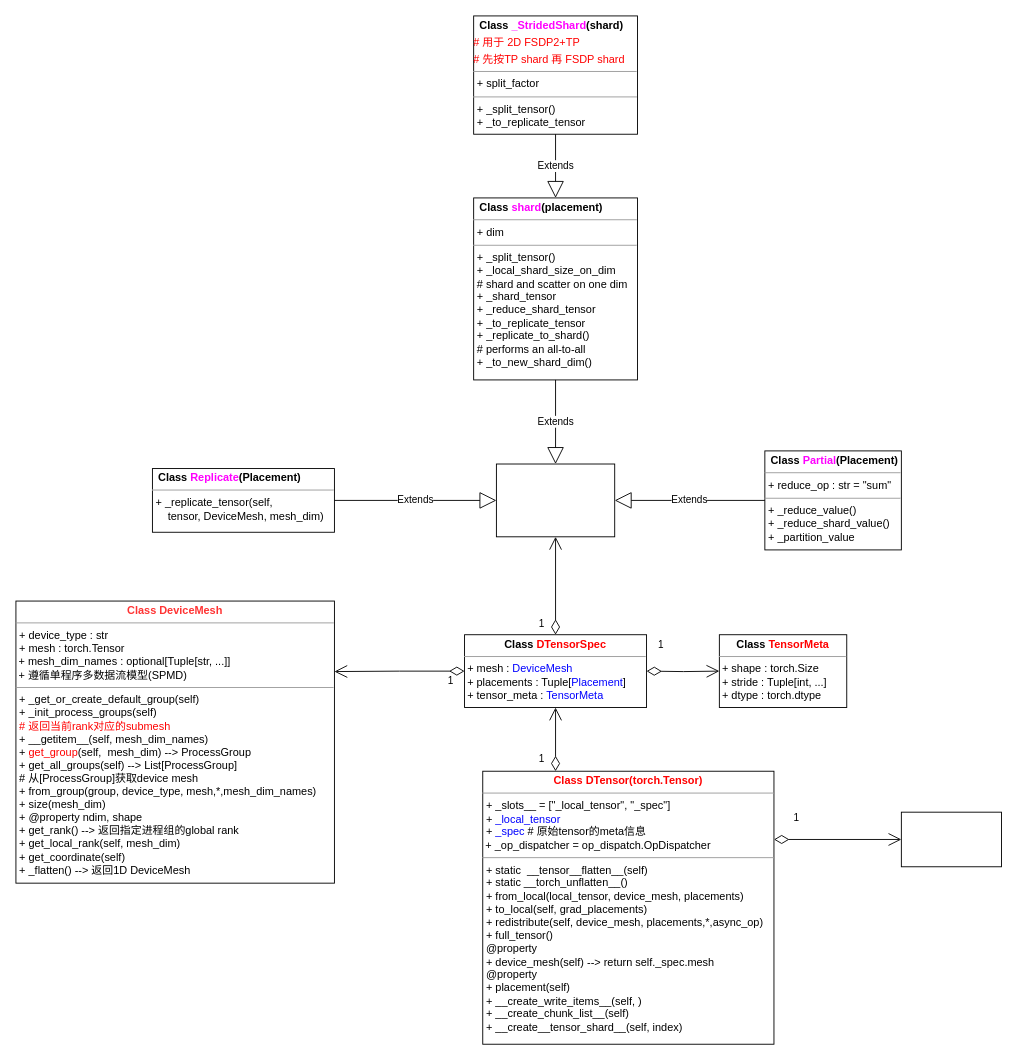
The diagram is 1017 pixels wide and 1060 high, and some of its shapes have lost their labels. Here are the shapes that lost their labels. From the top down, the centre of each, then its label:
At pixel 555 500: "Class Placement + is_shard(self) + is_replicate(self) + is_partial(self)".
At pixel 950 839: "Tensor + _local_tensor".
